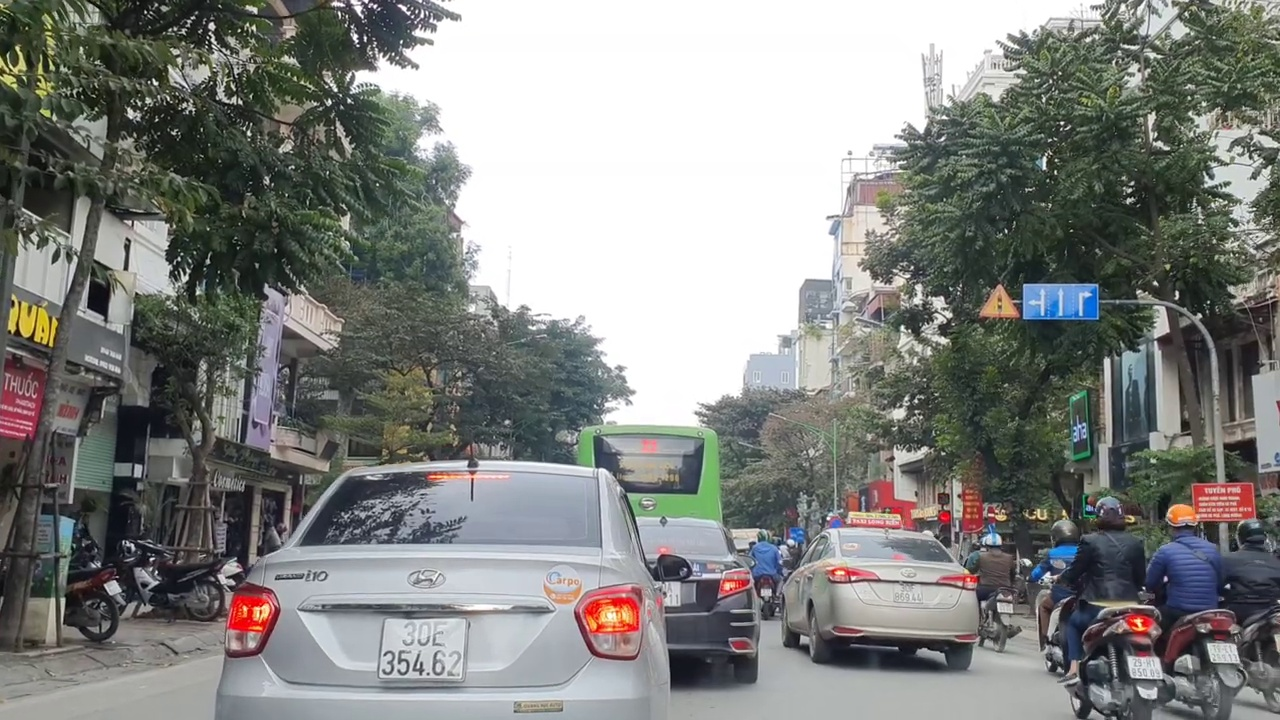person: (888, 579, 929, 608)
